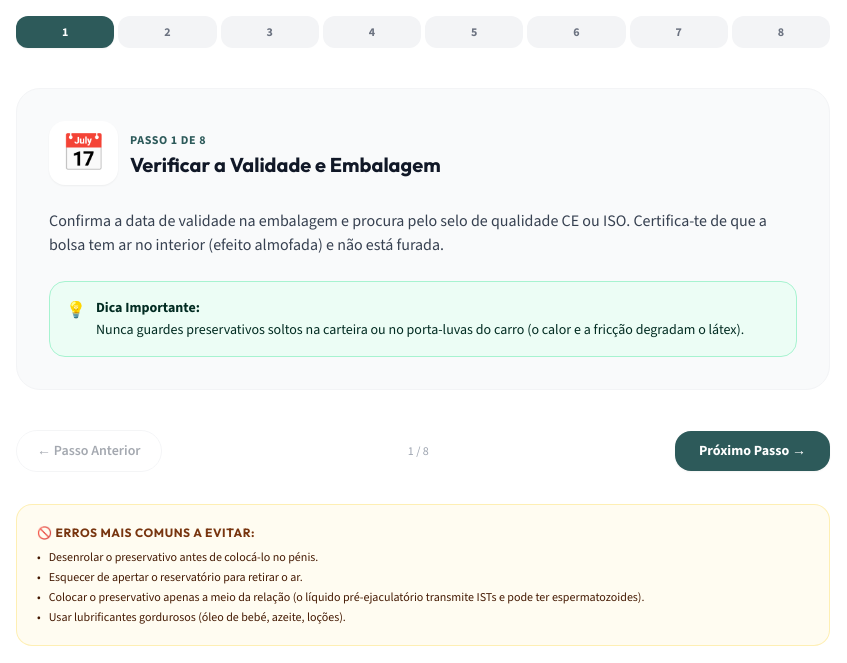
Scenario: StepByStepGuides › navigates to previous step using Passo Anterior button
(page scrolled)
Click the button "Próximo Passo →" at (752, 451), box [675,431,830,471]
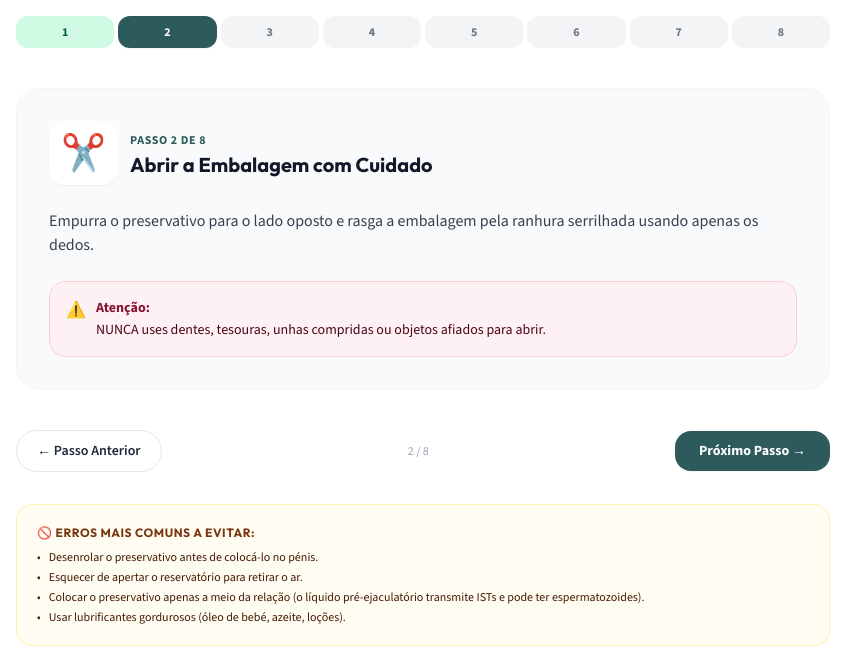
Click the button "← Passo Anterior" at (89, 451), box [16,430,162,472]
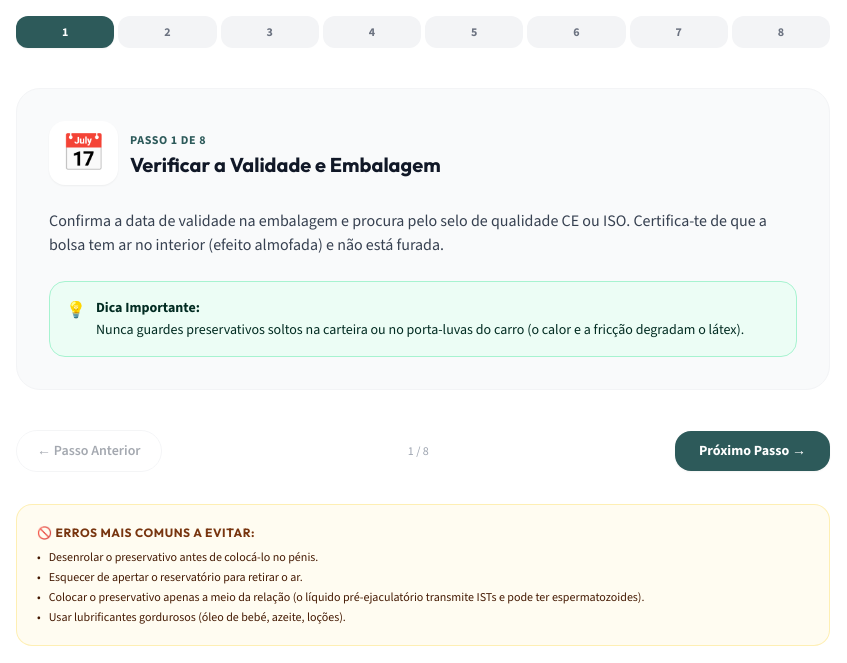
Result: the heading "Verificar a Validade e Embalagem" is shown at [130,151,441,179]
Result: the text "1 / 8" is shown at [408,443,429,459]
